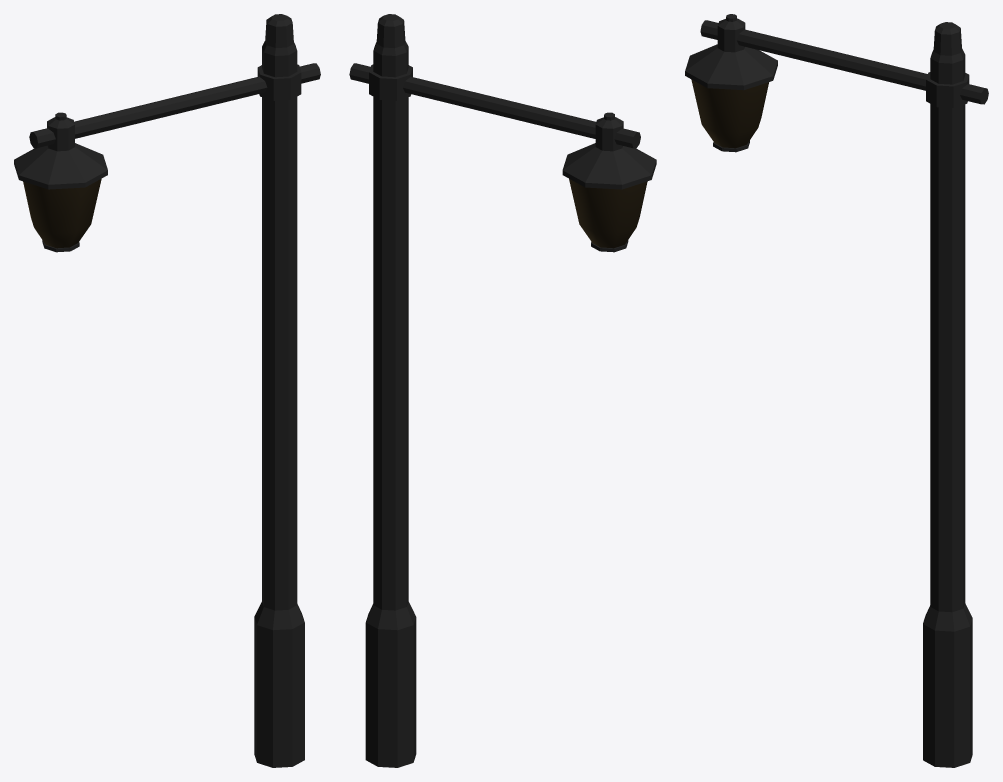
File: SM_Light.fbx
3 renders of one model, left to right at view 1: azimuth 30°, elevation 25°; view 2: azimuth 150°, elevation 25°; view 3: azimuth 330°, elevation 25°, orthographic.
Parts seen in each view (by area): view 1: SM_Light; view 2: SM_Light; view 3: SM_Light.
Part boxes in pixels (<box>): SM_Light: <box>14,14,320,767</box>; SM_Light: <box>349,14,656,767</box>; SM_Light: <box>685,14,988,767</box>.
Size of the model in its own units: 211 by 59.61 by 500.
